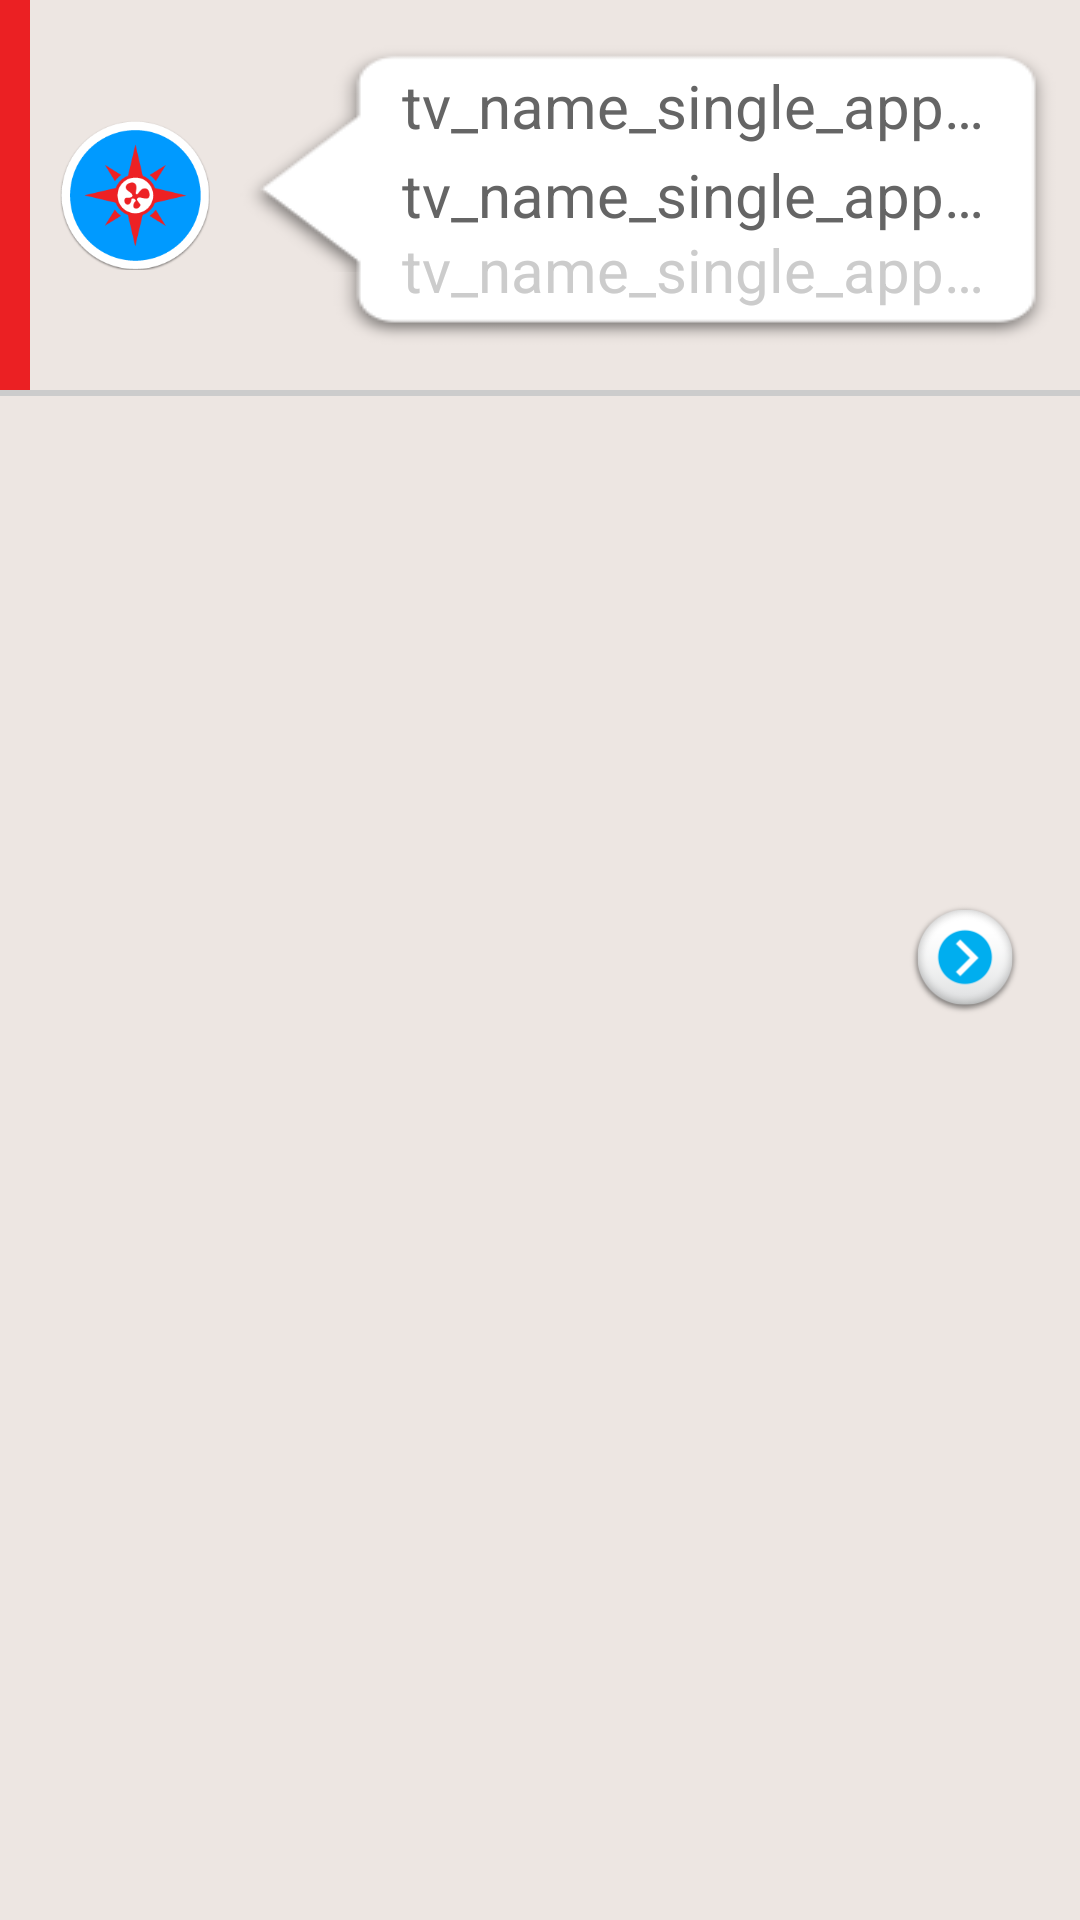

Point at icon controls on the screen. Image size 1080x1920, points as (x=x, y=y).
nabigator: (x=135, y=196)
nsa arrow: (x=964, y=959)
